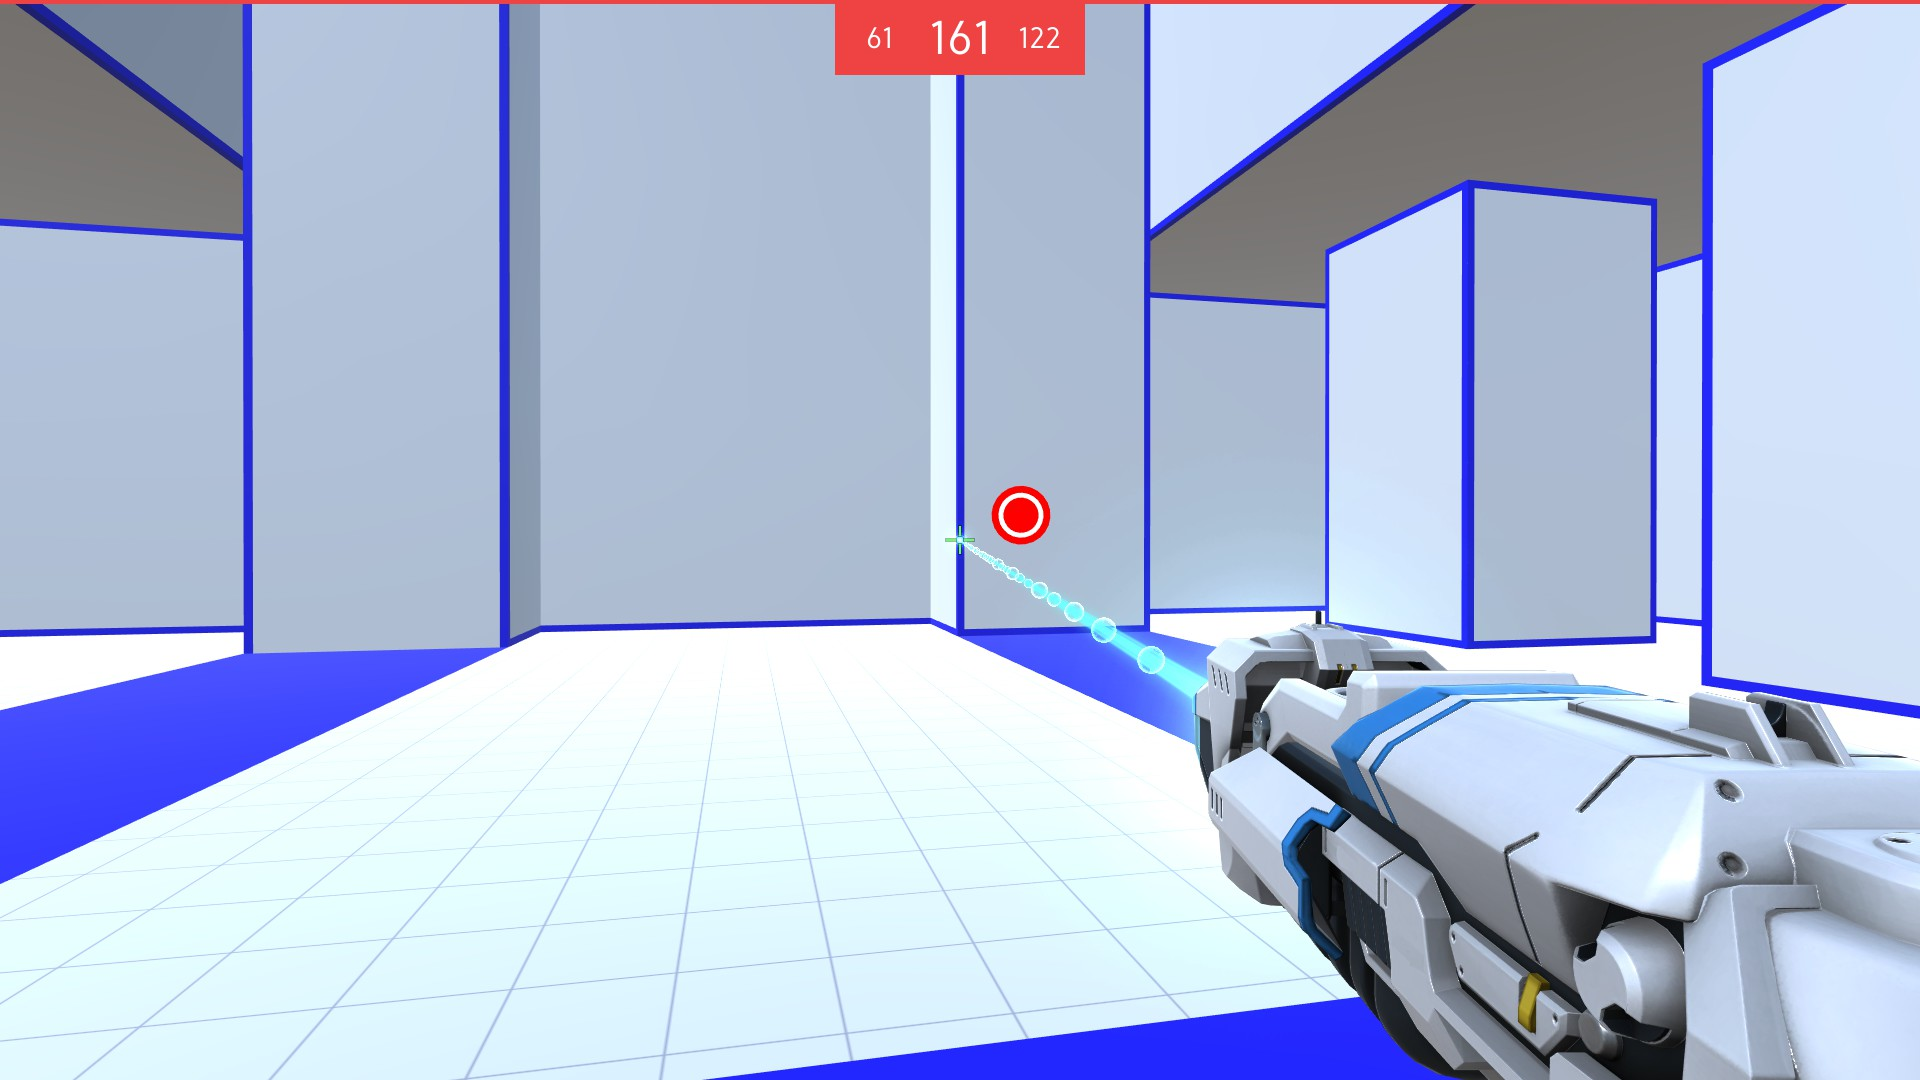target: (989, 487, 1054, 547)
